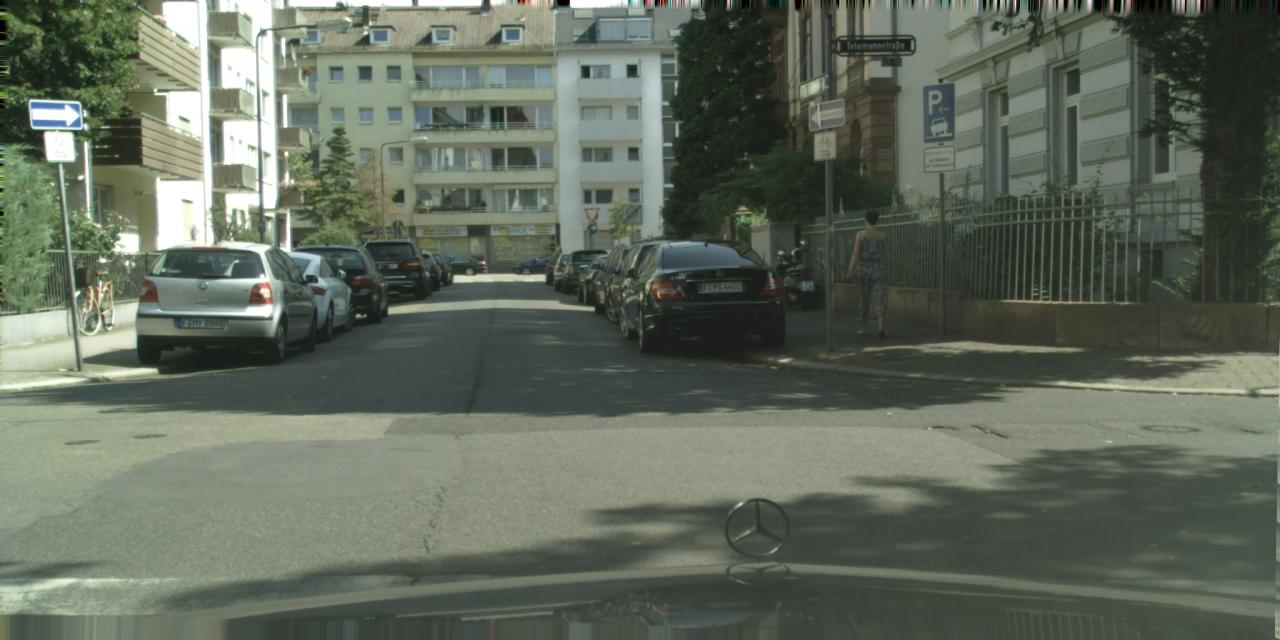ped: (847, 209, 898, 335), (550, 245, 564, 280)
